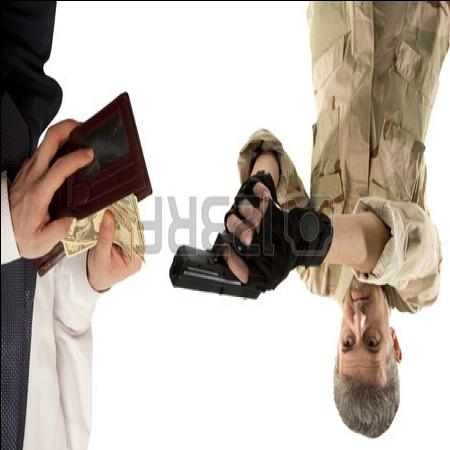Pistol: (170, 186, 277, 306)
